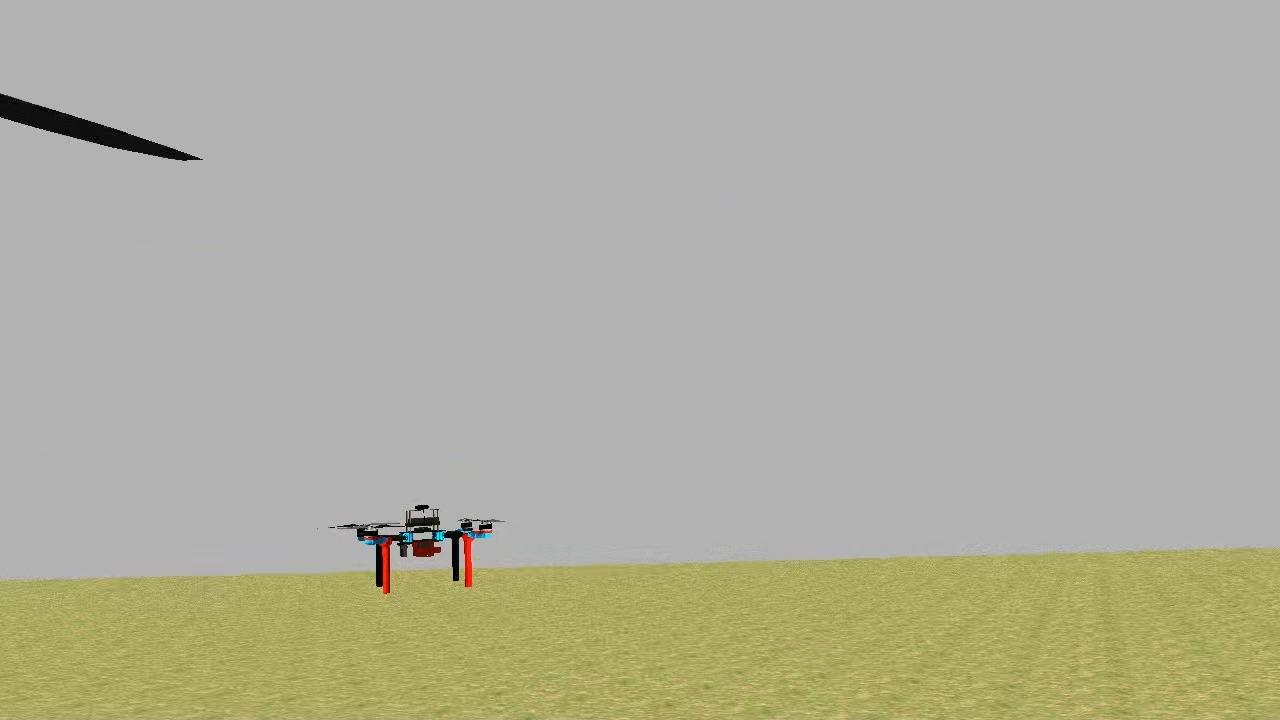UAV: (352, 496, 497, 604)
